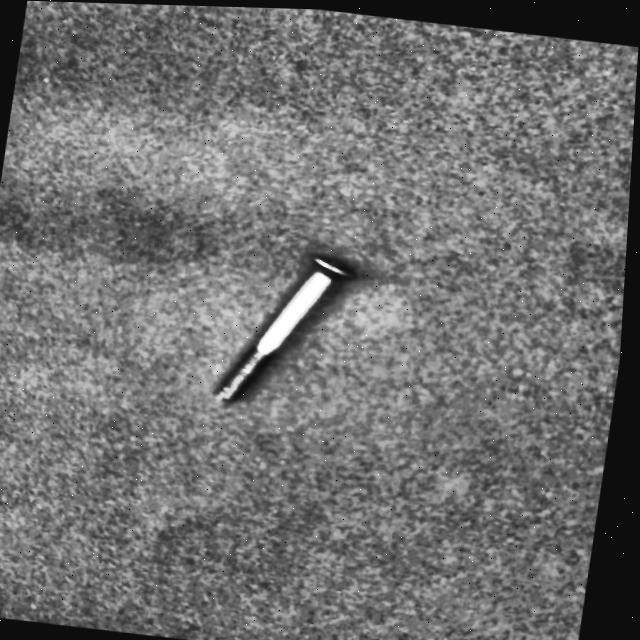Flat head socket screw: (210, 237, 366, 414)
